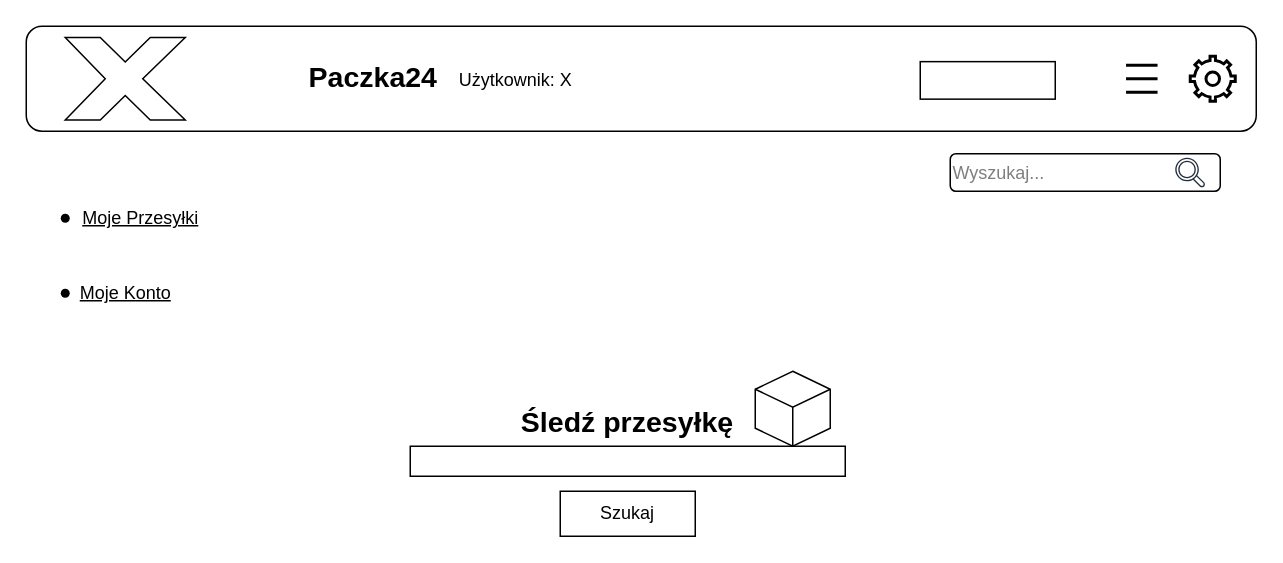
Some shapes in this 1283 by 563 pixel diagram are drawn without their labels. Here are the shapes that lost their labels. From the top down, the box of each, then its label:
(919, 60, 1055, 99): Wyloguj
(409, 445, 845, 476): Wpisz numer przesyłki
